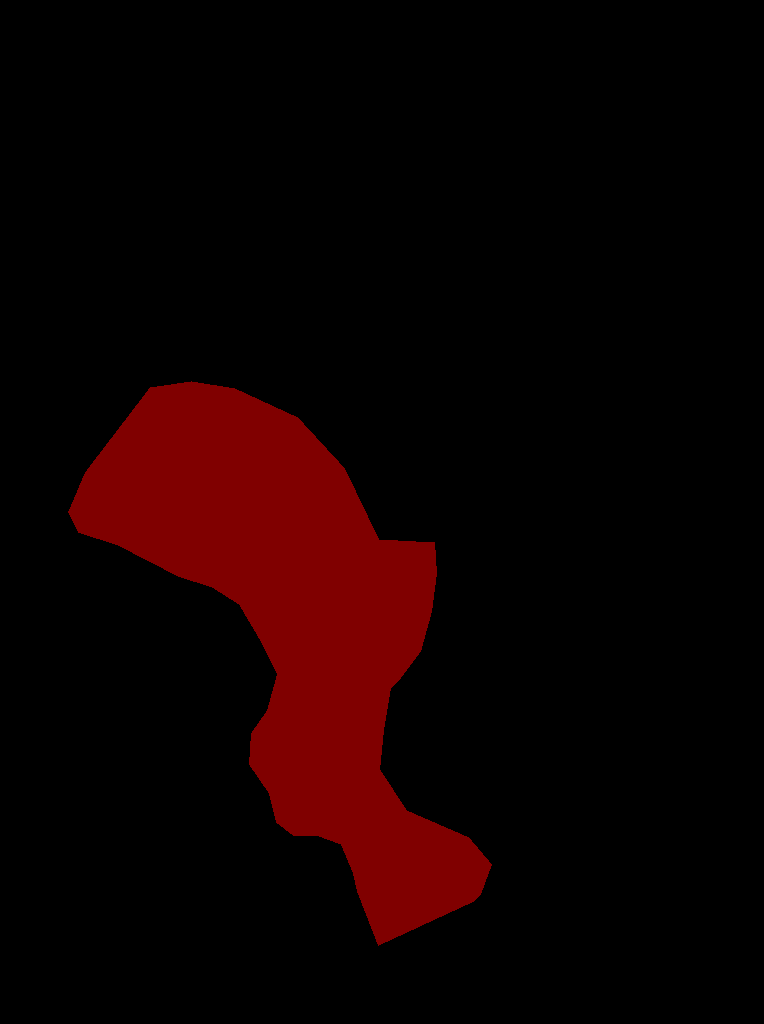fire: (68, 381, 491, 945)
